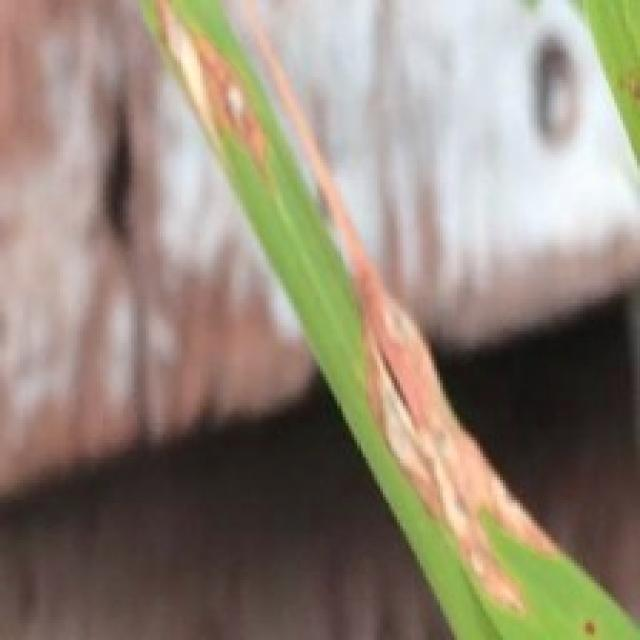Unhealthy: (255, 30, 562, 616), (149, 0, 265, 186), (581, 619, 595, 636)
